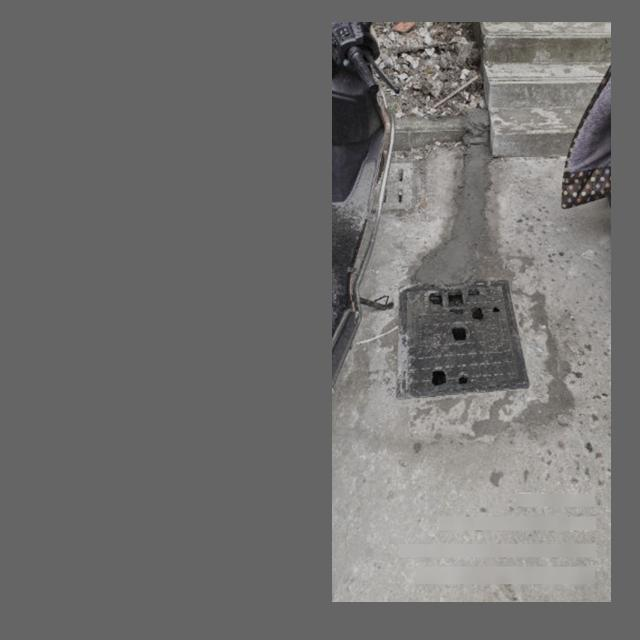broke: (395, 278, 530, 403)
